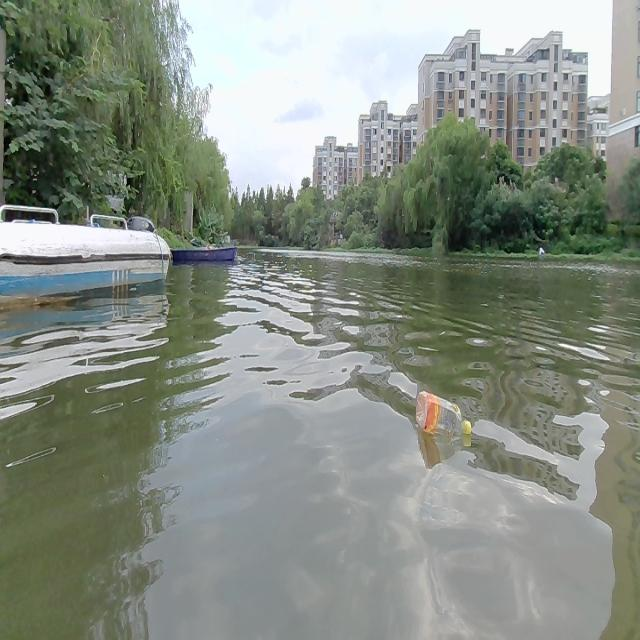bottle: (414, 387, 474, 442)
